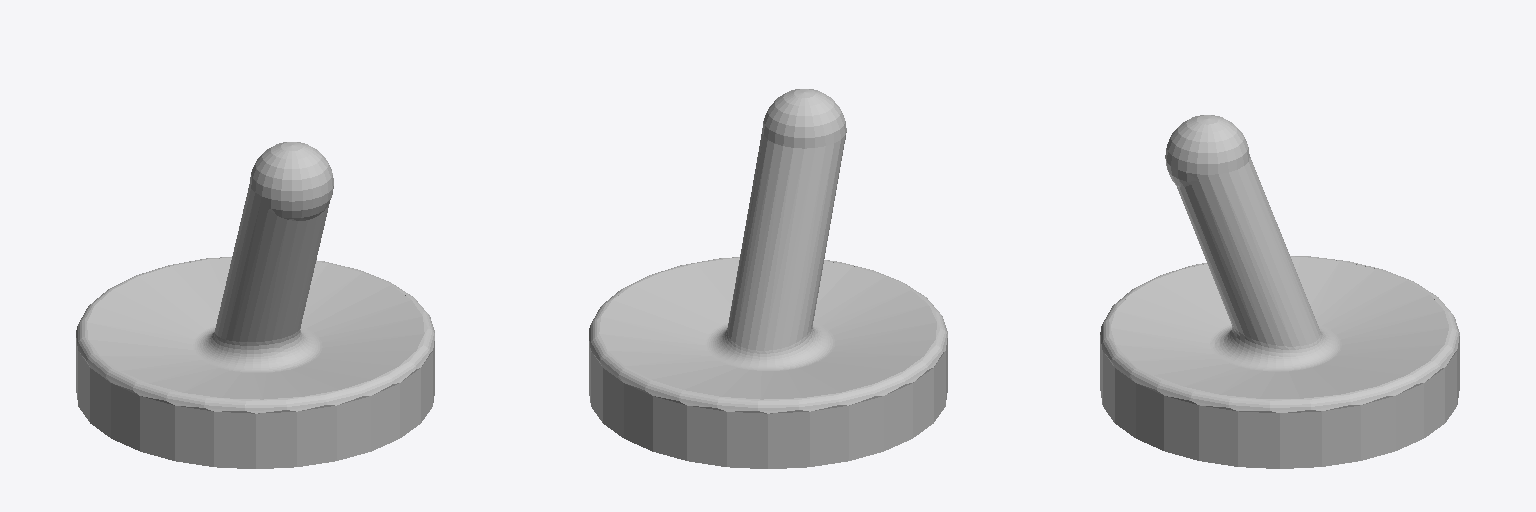
Rendered from Tumbler_2.obj.
The picture shows the model from 3 angles: view 1: azimuth 30°, elevation 25°; view 2: azimuth 150°, elevation 25°; view 3: azimuth 270°, elevation 25°; orthographic projection.
Visible parts, largest first — view 1: MeshBody5; view 2: MeshBody5; view 3: MeshBody5.
Part boxes in pixels (x1,y1,x2,y2): MeshBody5: (76, 142, 434, 468); MeshBody5: (589, 89, 947, 468); MeshBody5: (1100, 115, 1459, 468).
Bounding box in the file's own units: 16.97 × 14.3 × 16.97.